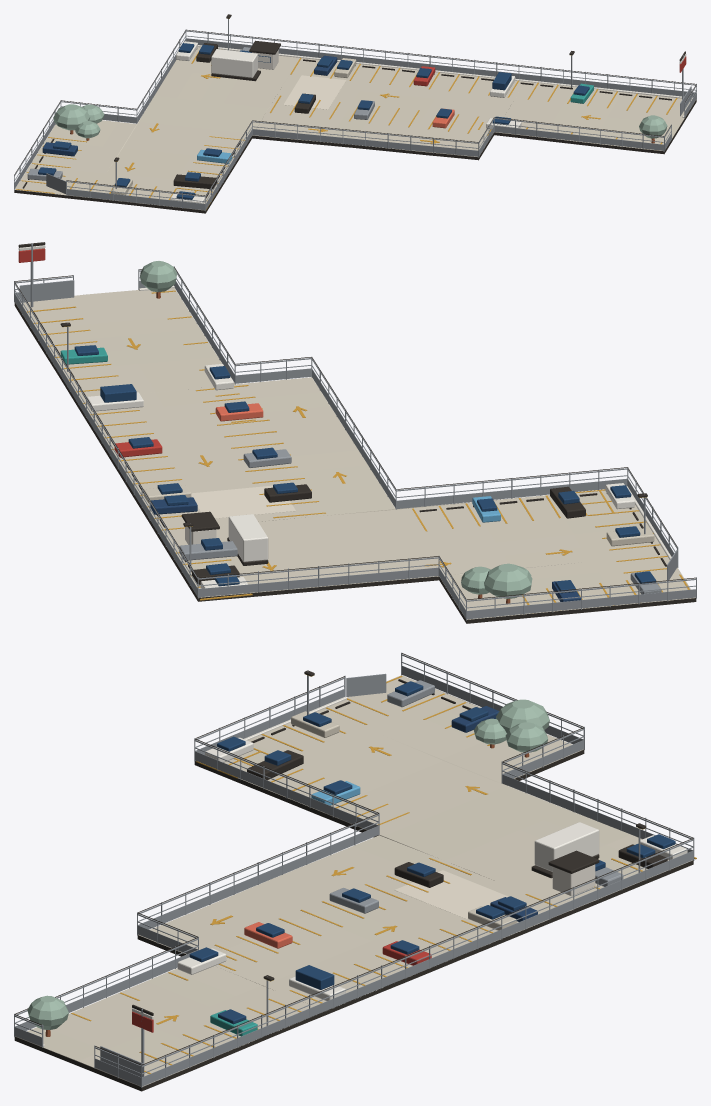
File: 424-brannan.glb
3 views of the same model, one above another, from view 1: azimuth 30°, elevation 25°; view 2: azimuth 150°, elevation 25°; view 3: azimuth 270°, elevation 25° (orthographic). The views are drawn at different scales.
Visible parts, largest first — view 1: plate, fence_mesh, fence_rail, car_cabins, striping, crowns, fence_posts, fence_barb, patch, trailer_box, kerb, cars_ink (+7 smaller); view 2: plate, fence_mesh, fence_rail, car_cabins, striping, crowns, fence_posts, patch, fence_barb, cars_steel, cars_white, trailer_box (+4 smaller); view 3: plate, fence_mesh, fence_rail, car_cabins, crowns, striping, fence_posts, fence_barb, patch, cars_white, trailer_box, cars_ink (+7 smaller).
Part boxes in pixels (x1,y1,x2,y2): plate: (14,47,696,213); fence_mesh: (14,38,696,210); fence_rail: (14,30,696,201); car_cabins: (38,43,589,199); striping: (16,51,677,209); crowns: (53,104,667,138); fence_posts: (14,29,696,211); fence_barb: (14,29,696,195); patch: (283,75,346,109); trailer_box: (211,49,257,77); kerb: (67,45,696,210); cars_ink: (173,43,315,189); plate: (14,288,696,623); fence_mesh: (14,281,695,619); fence_rail: (14,268,696,608); car_cabins: (74,345,656,593); striping: (27,290,689,610); crowns: (140,261,532,598); fence_posts: (14,266,696,620); patch: (191,485,295,518); fence_barb: (14,267,695,599); cars_steel: (179,449,661,594); cars_white: (87,364,634,588); trailer_box: (228,514,268,561); plate: (14,675,693,1091); fence_mesh: (14,665,693,1086); fence_rail: (14,654,693,1074); car_cabins: (189,681,675,1024); crowns: (27,699,549,1029); striping: (71,676,696,1073); fence_posts: (14,652,694,1087); fence_barb: (14,653,693,1065); patch: (394,870,508,918); cars_white: (177,737,687,1000); trailer_box: (534,822,599,871); cars_ink: (247,750,667,887).
Size of the model in its own units: 88.81 by 8.56 by 59.92.
